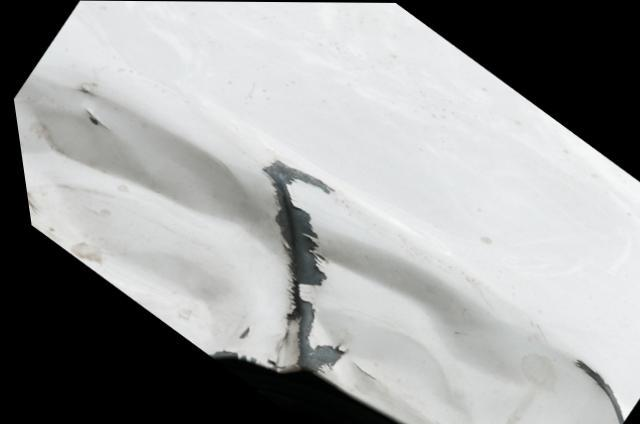dent: (289, 185, 616, 424), (11, 62, 271, 357)
scratch: (258, 158, 333, 371)
